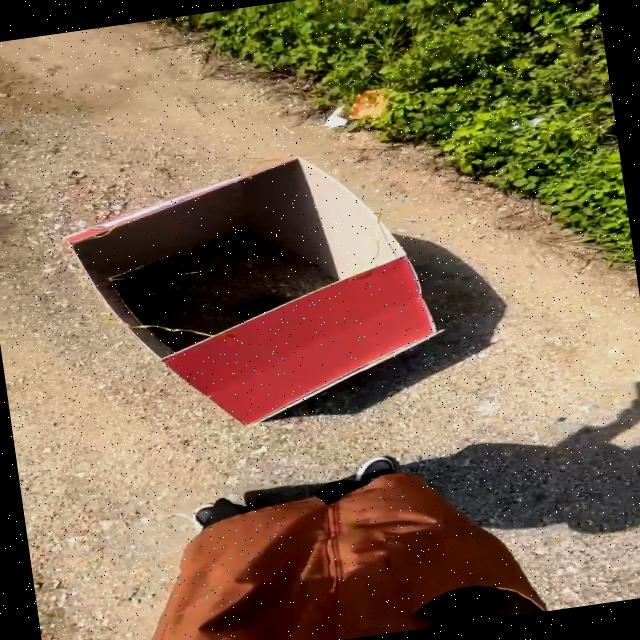red_car: (1, 117, 477, 451)
